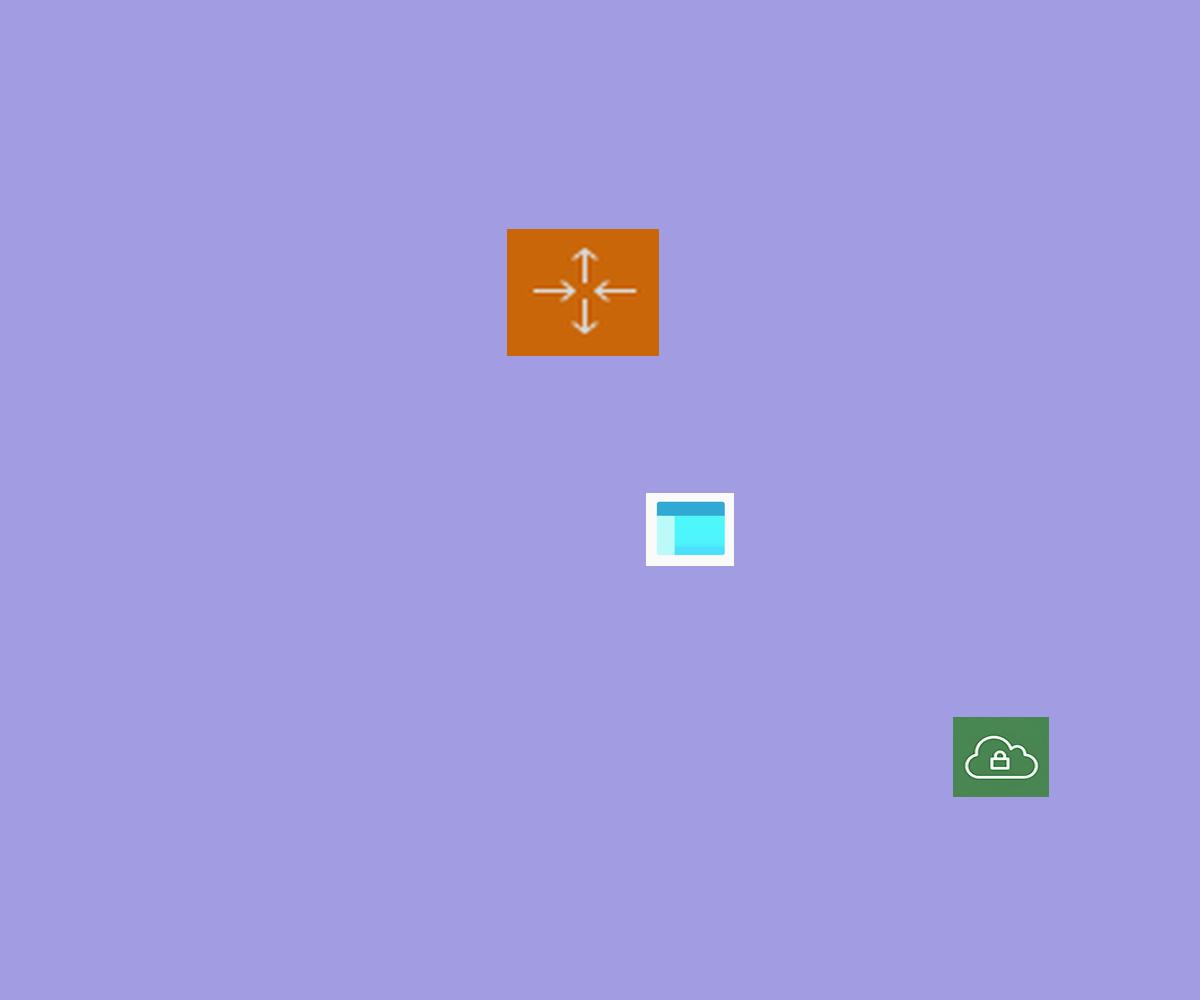AWS-Private_vpc: (953, 717, 1049, 797)
AWS-Scaling-group: (507, 229, 659, 356)
Azure_management-portal: (646, 493, 734, 566)
